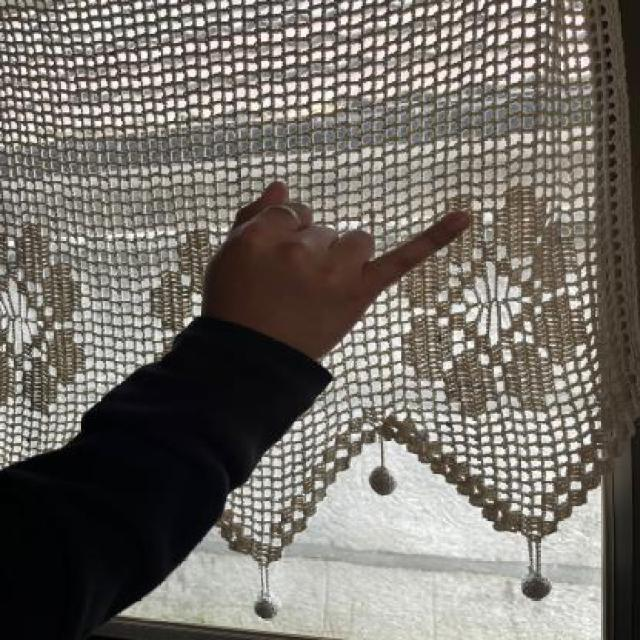J: (207, 174, 481, 352)
